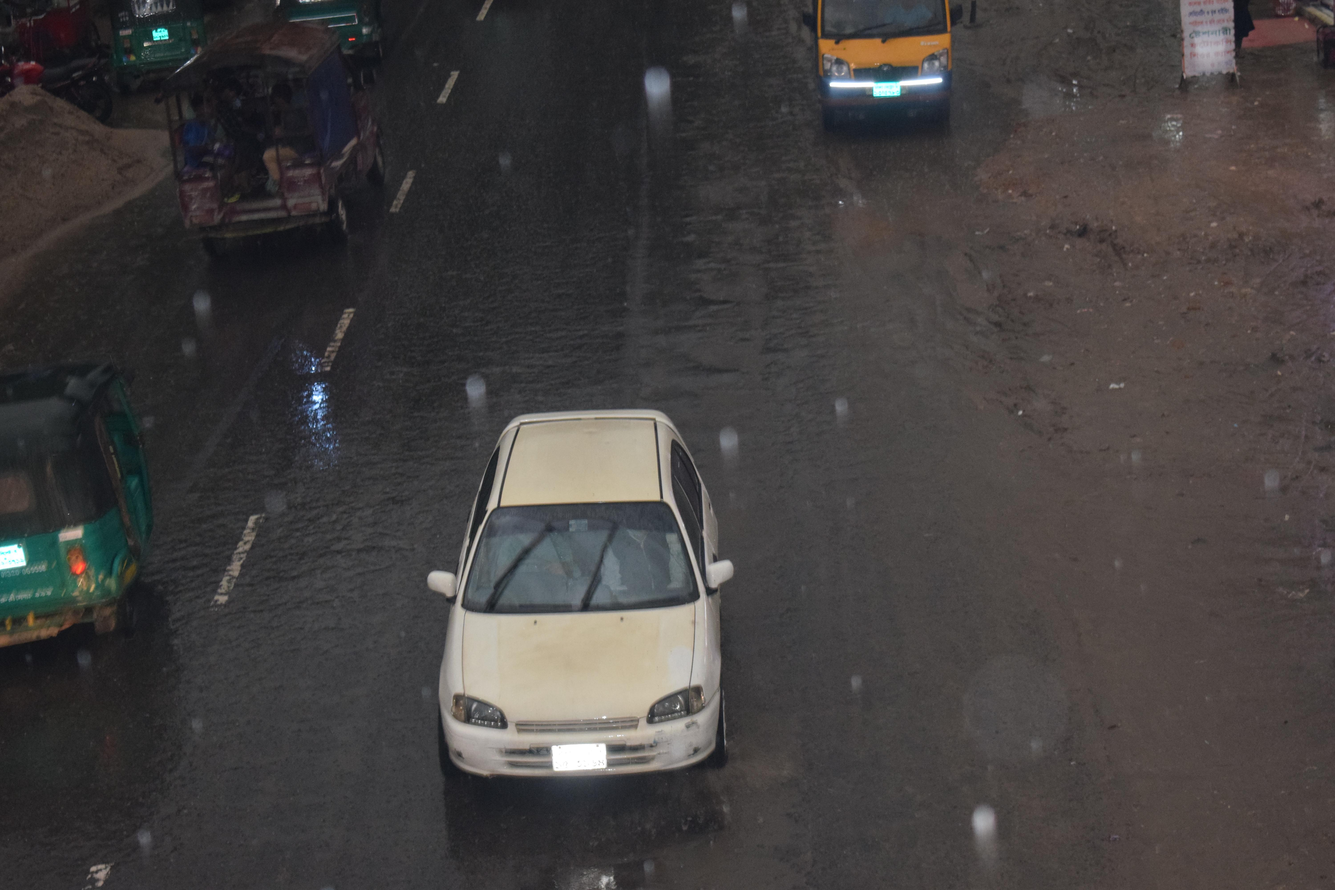Car: (353, 360, 829, 843)
Truck: (127, 7, 424, 264), (779, 0, 1012, 153)
